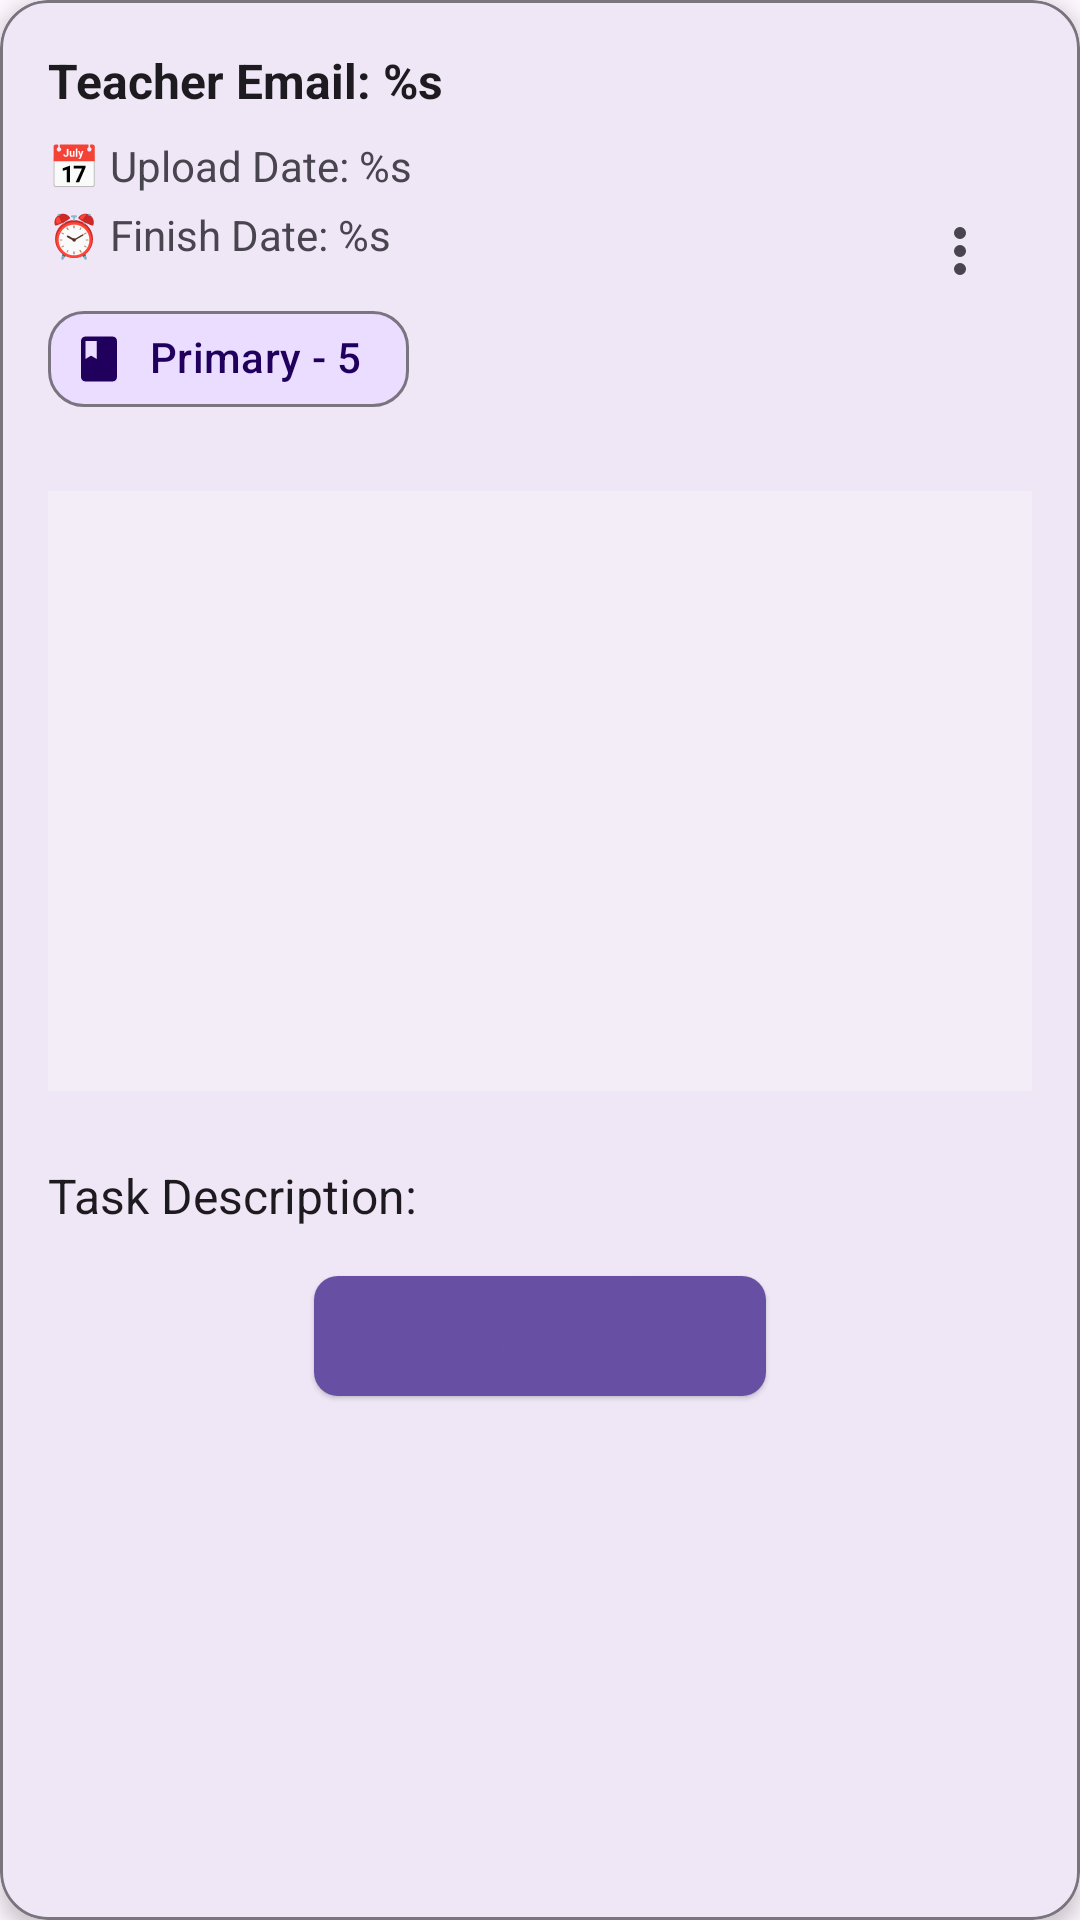

Where icons sit on this 1080px x 1920px app screen, as (x1, y1, x2, y2):
Options menu for answer: (954, 227, 966, 275)
